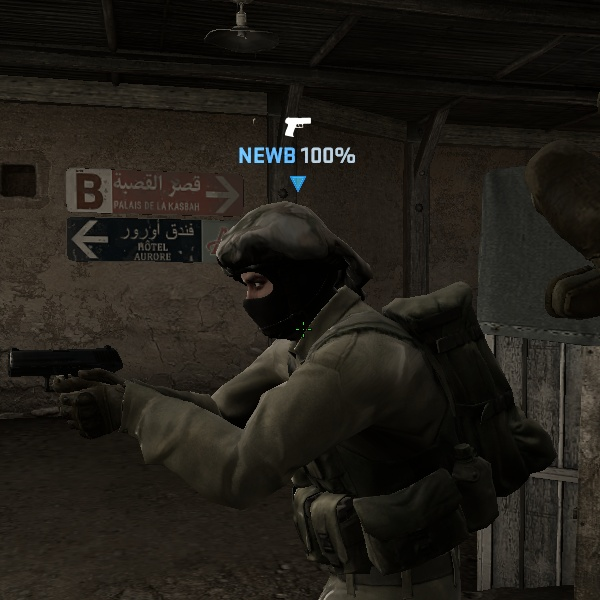ct_body: (201, 192, 549, 596)
ct_head: (222, 197, 359, 325)
